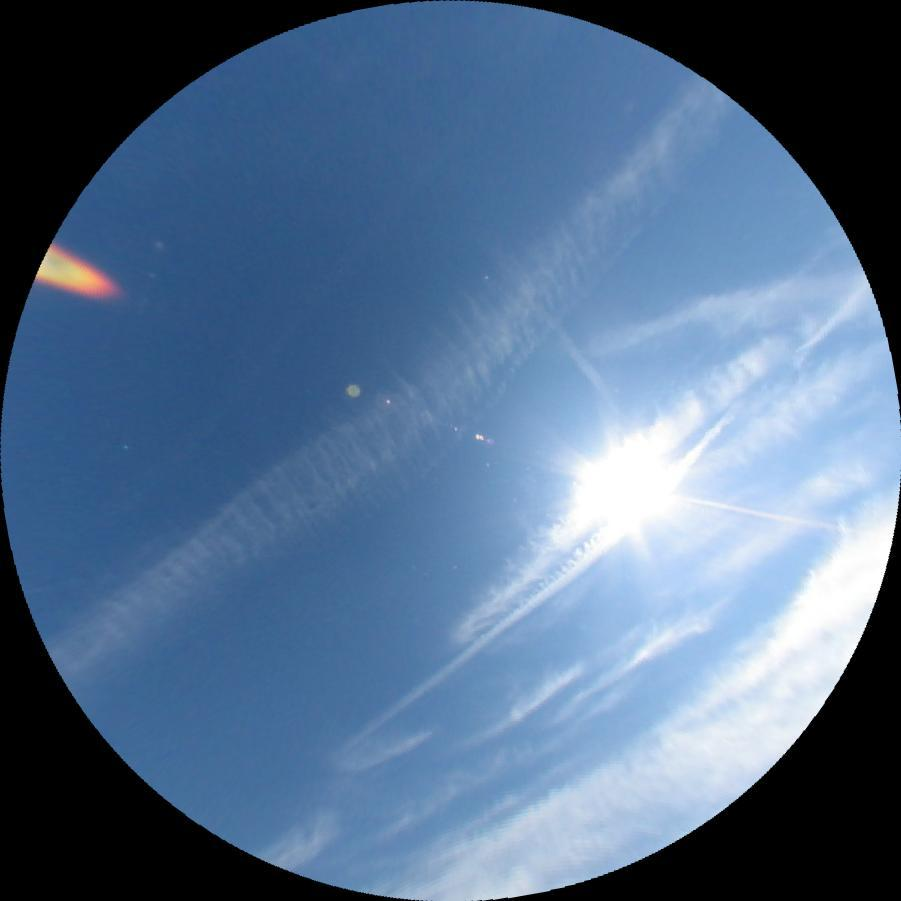contrail veryold: (37, 66, 787, 746), (331, 398, 758, 772), (426, 308, 800, 652), (580, 266, 880, 368), (530, 297, 628, 412)
parasite: (664, 492, 857, 534)
sun: (573, 442, 674, 520)
